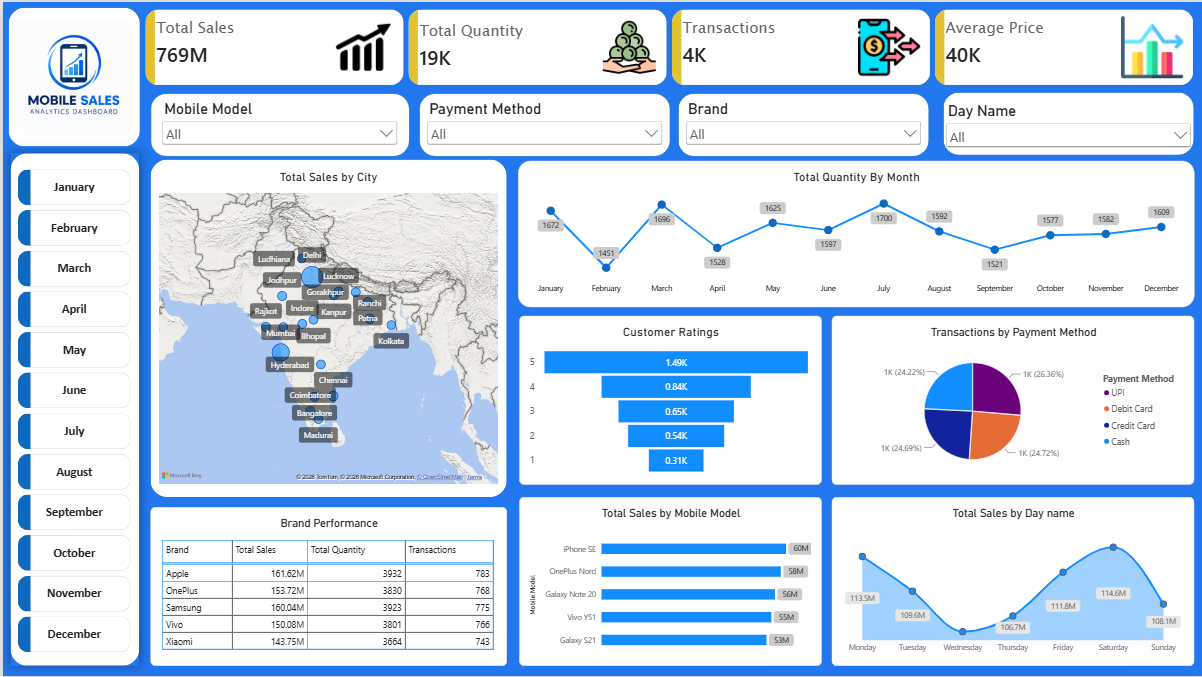

The page's visual inventory and layout, read from the dashboard file:
{"tool":"powerbi","page":{"name":"Page 1","canvas":[1920,1080],"ordinal":0},"visuals":[{"type":"shape","box":[0,0,228,240],"z":0},{"type":"image","box":[10,30,206,182],"z":1000},{"type":"shape","box":[12,242,206,820],"z":2000},{"type":"advancedSlicerVisual","fields":{"Values":["Sales_Data.Sales Date.Variation.Date Hierarchy.Month"]},"box":[24,268,180,780],"z":3000},{"type":"cardVisual","fields":{"Data":["Sales_Data.Total Sales","Sales_Data.Total Quantity","Sales_Data.Transactions","Sales_Data.Average Price"]},"box":[228,12.7,1677.6,121.2],"z":4000},{"type":"shape","box":[235.3,146.6,414.4,101.3],"z":5000},{"type":"slicer","fields":{"Values":["Sales_Data.Mobile Model"]},"box":[249.7,155.6,385.5,86.9],"z":6000},{"type":"shape","box":[666,146.6,401.7,101.3],"z":7000},{"type":"shape","box":[1503.8,144.8,401.7,101.3],"z":8000},{"type":"shape","box":[1080.4,146.6,401.7,101.3],"z":9000},{"type":"slicer","fields":{"Values":["Sales_Data.Payment Method"]},"box":[673.2,155.6,385.5,83.2],"z":10000},{"type":"slicer","fields":{"Values":["Sales_Data.Brand"]},"box":[1087.6,155.6,385.5,79.6],"z":11000},{"type":"slicer","fields":{"Values":["Sales_Data.Name Of The Day"]},"box":[1503.8,159.3,401.7,76],"z":12000},{"type":"shape","box":[236,252,570,540],"z":13000},{"type":"map","fields":{"Category":["Sales_Data.City"],"Size":["Sales_Data.Total Sales"]},"box":[250,268,542,504],"z":14000},{"type":"lineChart","title":"Total Quantity By Month","fields":{"Category":["Sales_Data.Sales Date.Variation.Date Hierarchy.Month","Sales_Data.Sales Date.Variation.Date Hierarchy.Day"],"Y":["Sales_Data.Total Quantity"]},"box":[824,254,1082,234],"z":15000},{"type":"funnel","title":" Customer Ratings","fields":{"Category":["Sales_Data.Customer Ratings"],"Y":["CountNonNull(Sales_Data.Customer Ratings)"]},"box":[826,502,484,270],"z":16000},{"type":"pieChart","fields":{"Category":["Sales_Data.Payment Method"],"Y":["Sales_Data.Transactions"]},"box":[1326,502,580,270],"z":17000},{"type":"barChart","fields":{"Category":["Sales_Data.Mobile Model"],"Y":["Sales_Data.Total Sales"]},"box":[826,792,484,270],"z":18000},{"type":"tableEx","title":"Brand Performance","fields":{"Values":["Sales_Data.Brand","Sales_Data.Total Sales","Sales_Data.Total Quantity","Sales_Data.Transactions"]},"box":[236,808,570,254],"z":19000},{"type":"stackedAreaChart","fields":{"Category":["Sales_Data.Day name"],"Y":["Sales_Data.Total Sales"]},"box":[1326,792,580,270],"z":20000}]}

Visuals, with their boxes in screenshot pixels (x1, y1, x2, y2), scaled from the page's 1920x1080 canvas onto the 1202x677 screenshot:
shape: 0:0:143:150
image: 6:19:135:133
shape: 8:152:136:666
advancedSlicerVisual - Sales_Data.Sales Date.Variation.Date Hierarchy.Month: 15:168:128:657
cardVisual - Sales_Data.Total Sales x Sales_Data.Total Quantity: 143:8:1193:84
shape: 147:92:407:155
slicer - Sales_Data.Mobile Model: 156:98:398:152
shape: 417:92:668:155
shape: 941:91:1193:154
shape: 676:92:928:155
slicer - Sales_Data.Payment Method: 421:98:663:150
slicer - Sales_Data.Brand: 681:98:922:147
slicer - Sales_Data.Name Of The Day: 941:100:1193:147
shape: 148:158:505:496
map - Sales_Data.City x Sales_Data.Total Sales: 157:168:496:484
"Total Quantity By Month" lineChart: 516:159:1193:306
" Customer Ratings" funnel: 517:315:820:484
pieChart - Sales_Data.Payment Method x Sales_Data.Transactions: 830:315:1193:484
barChart - Sales_Data.Mobile Model x Sales_Data.Total Sales: 517:496:820:666
"Brand Performance" tableEx: 148:506:505:666
stackedAreaChart - Sales_Data.Day name x Sales_Data.Total Sales: 830:496:1193:666
